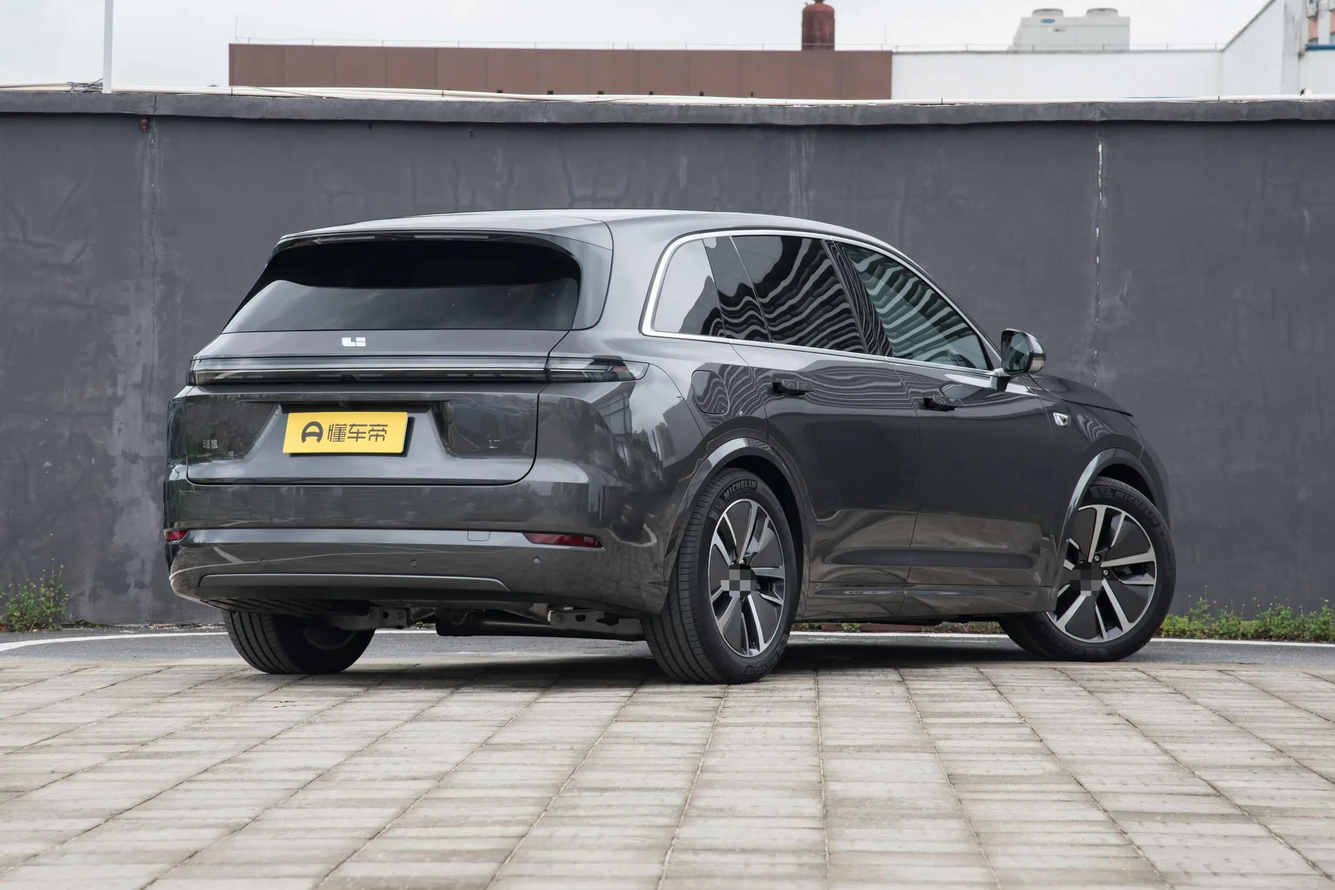Li Auto: (341, 337, 366, 347)
